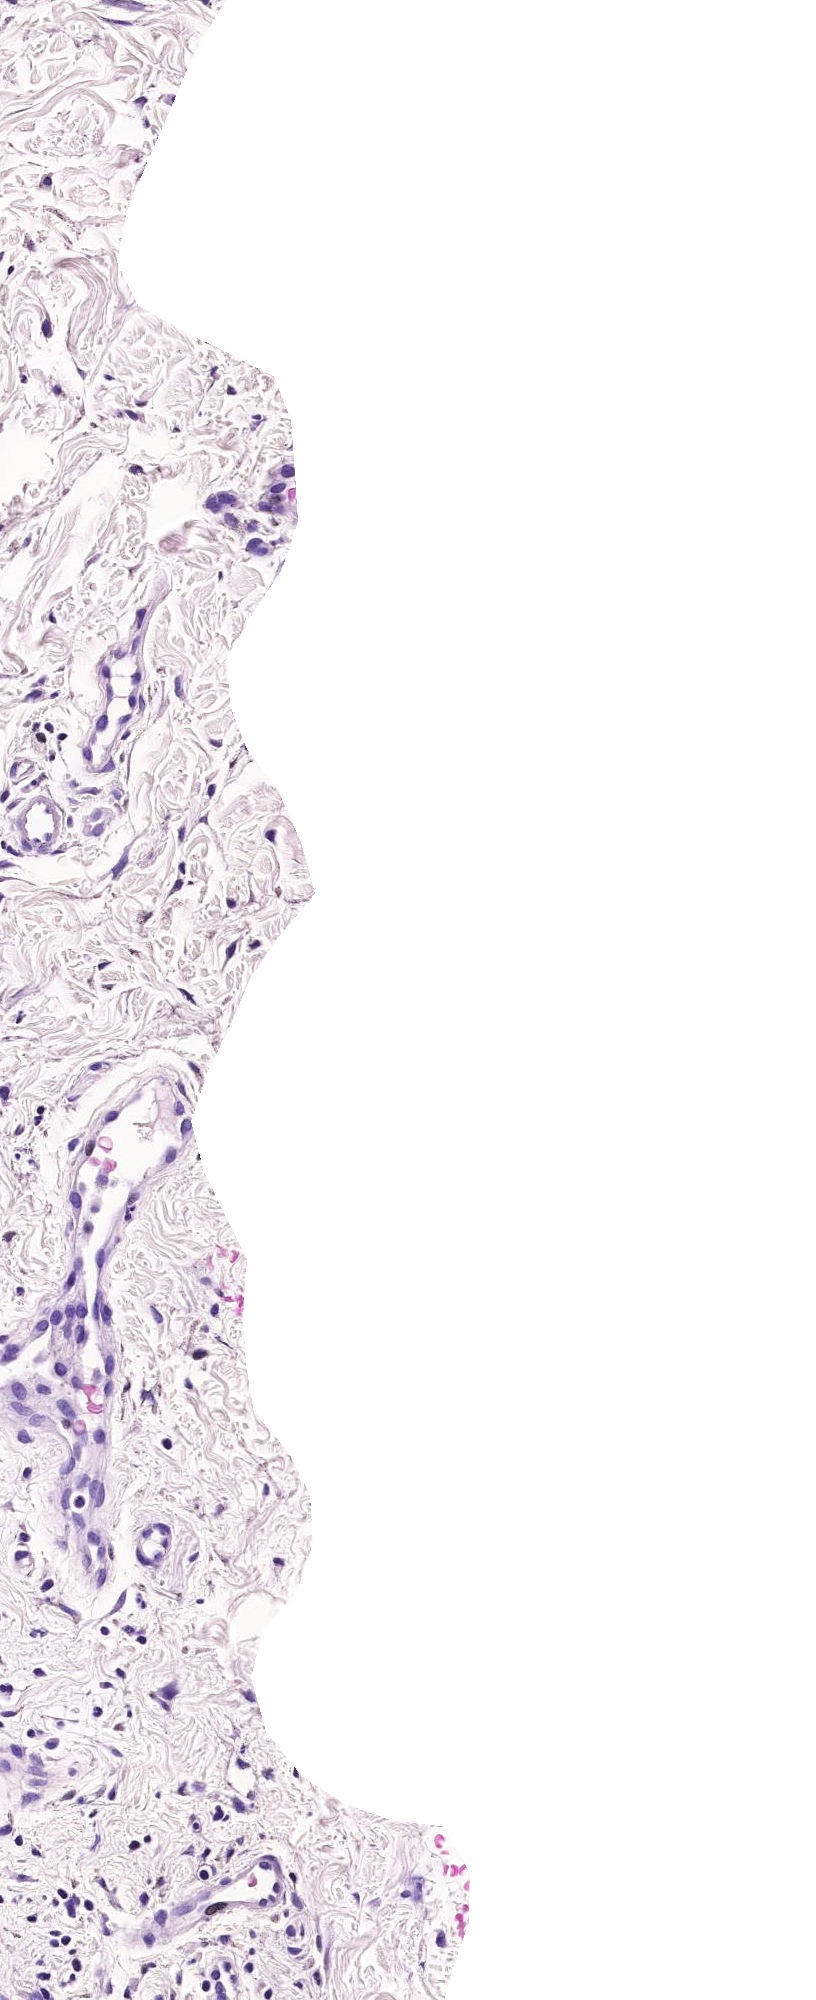fibroblast and endothelial: (116, 864, 122, 870), (17, 1388, 23, 1394), (237, 1804, 244, 1810), (57, 1365, 62, 1372), (17, 1406, 24, 1411), (25, 1796, 31, 1804), (64, 1491, 66, 1505), (71, 1195, 76, 1202), (64, 1406, 69, 1412), (87, 1224, 91, 1232), (94, 828, 99, 833), (154, 1312, 159, 1318), (33, 1782, 43, 1784), (251, 540, 255, 546), (178, 1106, 182, 1112), (89, 1537, 96, 1541), (99, 1548, 103, 1555), (221, 497, 229, 500), (120, 1596, 122, 1605), (228, 518, 232, 523), (121, 735, 126, 739), (87, 1145, 91, 1151), (98, 1253, 101, 1260), (40, 1388, 45, 1392), (3, 1761, 6, 1767), (217, 1985, 221, 1990), (354, 1895, 358, 1901), (136, 99, 143, 102), (105, 767, 111, 769), (33, 1756, 36, 1763), (129, 412, 133, 416), (10, 849, 14, 853), (25, 843, 29, 847), (184, 992, 187, 996), (178, 1087, 182, 1091), (101, 1179, 105, 1182), (54, 1314, 57, 1318), (105, 1309, 108, 1312), (36, 1670, 40, 1673), (115, 1751, 119, 1755), (122, 717, 127, 719), (180, 864, 182, 869), (171, 1153, 173, 1158), (96, 1435, 101, 1437), (22, 1435, 27, 1437), (159, 1526, 164, 1528), (111, 1793, 113, 1798), (266, 1856, 272, 1858), (40, 1974, 45, 1977), (229, 388, 232, 392), (51, 617, 54, 621), (138, 614, 140, 617), (105, 668, 106, 676), (213, 742, 217, 745), (11, 804, 14, 807), (178, 832, 181, 835), (201, 818, 205, 820), (193, 1065, 195, 1069), (108, 1114, 112, 1116), (69, 1277, 71, 1281), (41, 1324, 45, 1327), (69, 1309, 71, 1312), (78, 1310, 82, 1312), (107, 1385, 108, 1393), (34, 1418, 38, 1421), (98, 1494, 101, 1497), (85, 1559, 88, 1562), (101, 1574, 103, 1578), (65, 1608, 69, 1611), (14, 1750, 17, 1754), (32, 1770, 40, 1772), (292, 1949, 296, 1952), (91, 791, 97, 792), (229, 948, 231, 954), (107, 1362, 108, 1369), (93, 1483, 94, 1490), (317, 1939, 319, 1945), (133, 469, 138, 471), (210, 503, 213, 505), (134, 643, 135, 648), (85, 750, 87, 755), (186, 1122, 187, 1128), (70, 1143, 73, 1145), (139, 1557, 142, 1560), (164, 1542, 167, 1545), (4, 1714, 9, 1716), (66, 1795, 69, 1797), (180, 1787, 181, 1792), (204, 1852, 207, 1855), (119, 22, 122, 23), (54, 852, 57, 853), (93, 1066, 97, 1068), (94, 1307, 96, 1311), (75, 1380, 76, 1384), (193, 1556, 194, 1560), (3, 1830, 6, 1832), (229, 1851, 231, 1855), (159, 1916, 161, 1920), (212, 1973, 215, 1974), (316, 1974, 317, 1978), (82, 372, 83, 375), (106, 376, 108, 378), (139, 404, 142, 406), (131, 699, 133, 702), (108, 690, 110, 693), (52, 695, 55, 696), (40, 736, 41, 739), (99, 966, 102, 967), (80, 1335, 82, 1338), (147, 1532, 148, 1534), (157, 1556, 159, 1557), (265, 1489, 266, 1491), (241, 1765, 244, 1767), (34, 1851, 36, 1853), (302, 1930, 303, 1932), (107, 1684, 108, 1685), (224, 1880, 226, 1881)
inflammatory: (295, 1898, 300, 1906), (284, 468, 291, 473), (45, 324, 48, 332), (275, 486, 280, 490), (252, 943, 258, 946), (3, 1687, 8, 1691), (215, 1812, 221, 1816), (193, 1824, 198, 1828), (201, 1872, 205, 1878), (31, 693, 37, 695), (204, 1982, 207, 1989), (439, 1939, 441, 1945), (34, 1119, 38, 1122), (22, 1536, 25, 1540), (45, 1582, 48, 1585), (119, 1670, 122, 1673), (142, 1897, 145, 1901), (269, 832, 272, 837), (213, 1307, 215, 1312), (48, 1742, 54, 1745), (22, 378, 24, 381), (3, 1091, 5, 1094), (19, 1290, 22, 1293), (25, 1471, 28, 1474), (277, 1560, 279, 1564), (126, 1629, 130, 1631), (96, 1710, 99, 1713), (166, 1693, 170, 1695), (87, 1903, 89, 1907), (64, 1940, 68, 1943), (266, 1994, 269, 1997), (289, 1930, 293, 1932), (18, 1554, 24, 1555), (45, 180, 47, 182), (32, 781, 34, 783), (43, 1992, 46, 1995), (246, 1966, 249, 1968), (196, 1355, 199, 1357), (228, 903, 232, 904), (261, 550, 263, 552), (133, 1844, 135, 1846), (61, 1893, 62, 1895), (52, 1932, 55, 1934), (54, 1943, 56, 1944), (403, 1893, 405, 1894), (198, 1601, 200, 1602), (29, 1732, 31, 1733)
lymphocyte: (101, 1629, 105, 1633), (76, 1500, 80, 1503), (17, 1839, 20, 1842), (261, 1901, 264, 1904), (46, 726, 48, 728), (164, 1443, 167, 1445), (140, 1639, 143, 1642), (261, 1864, 264, 1866), (3, 844, 4, 848), (38, 1108, 40, 1111), (127, 1712, 129, 1714), (250, 1950, 252, 1952), (291, 1875, 292, 1878), (60, 736, 61, 737), (51, 756, 52, 758), (17, 1156, 18, 1157), (274, 1886, 275, 1888)
